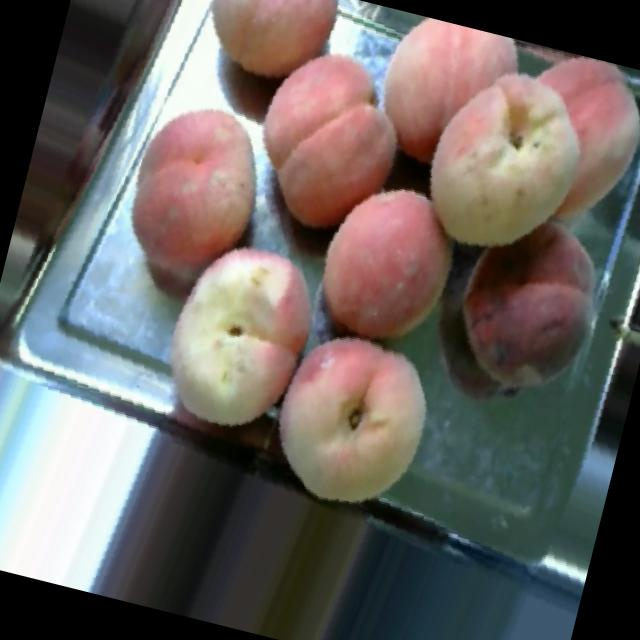Fruit: (396, 25, 620, 283), (217, 20, 436, 262), (88, 73, 295, 327), (426, 190, 634, 422), (136, 210, 327, 448), (260, 308, 456, 531), (287, 160, 479, 370), (175, 0, 358, 109)
